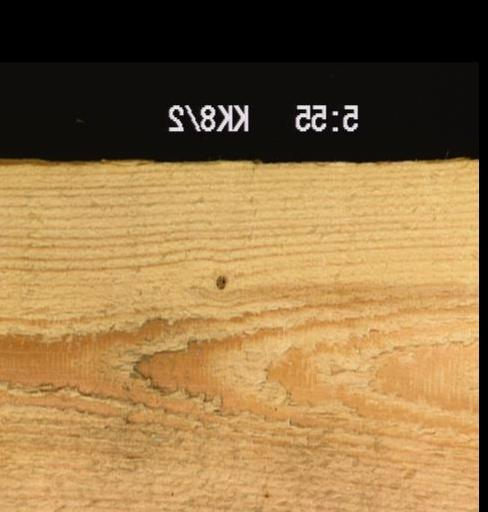dry_knot: (216, 272, 226, 283)
